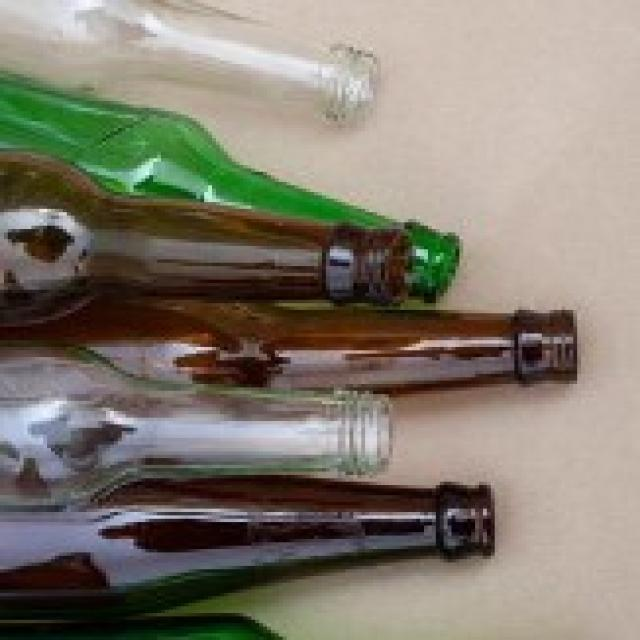electronic: (0, 0, 581, 637)
